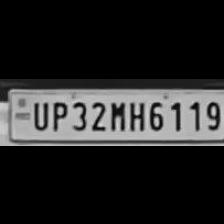1: (166, 97, 184, 131), (184, 97, 202, 131)
2: (88, 97, 106, 131)
3: (68, 97, 86, 131)
6: (146, 97, 166, 131)
9: (202, 96, 222, 130)
H: (126, 97, 144, 131)
M: (107, 97, 125, 131)
P: (47, 96, 66, 130)
U: (29, 96, 48, 130)
